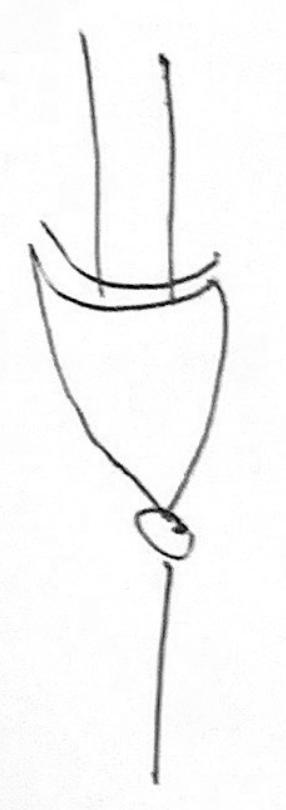XNOR: (10, 193, 264, 577)
